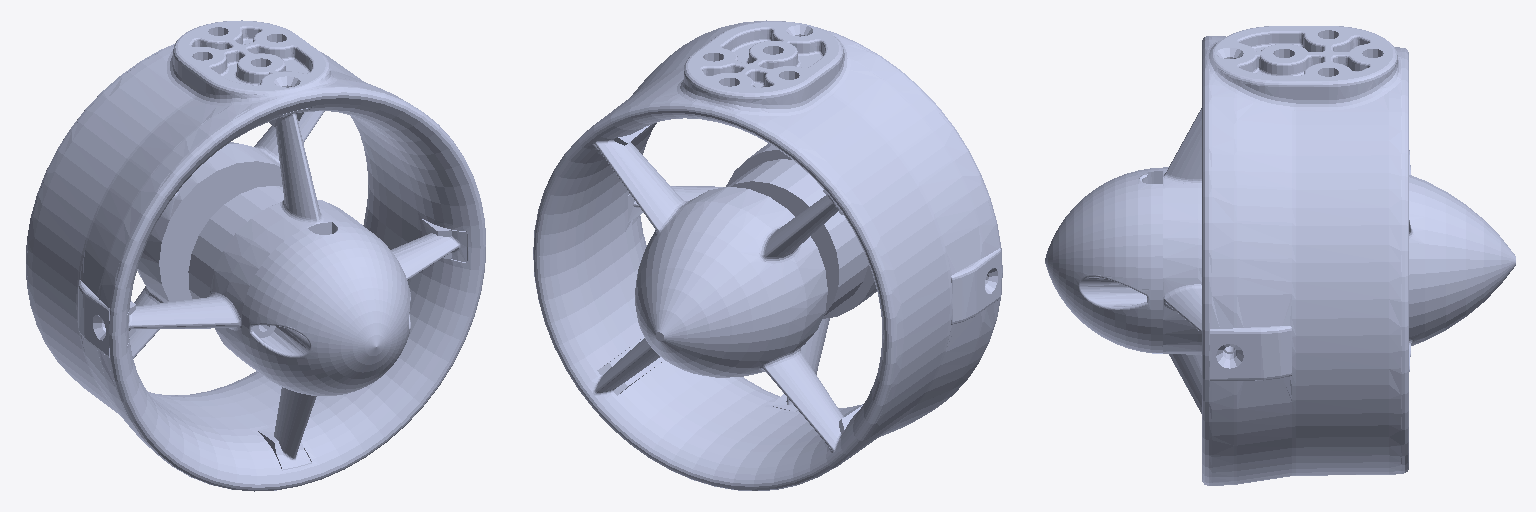
robot.urdf — T100-THRUSTER-SHELL:
<?xml version="1.0" encoding="utf-8"?>
<!-- This URDF was automatically created by SolidWorks to URDF Exporter! Originally created by [author] ([email redacted]) 
     Commit Version: 1.5.1-0-g916b5db  Build Version: 1.5.7152.31018
     For more information, please see http://wiki.ros.org/sw_urdf_exporter -->
<robot
  name="T100-THRUSTER-SHELL">
  <link
    name="T100-THRUSTER-SHELL">
    <inertial>
      <origin
        xyz="-1.0143E-05 -0.0040791 0.00053156"
        rpy="0 0 0" />
      <mass
        value="0.16979" />
      <inertia
        ixx="0.00015509"
        ixy="2.851E-08"
        ixz="-1.8979E-09"
        iyy="0.00017378"
        iyz="7.73359999999999E-07"
        izz="0.00015085" />
    </inertial>
    <visual>
      <origin
        xyz="-1.0143E-05 -0.0040791 0.00053156"
        rpy="1.5707963267949 0 0" />
      <geometry>
        <mesh
          filename="package://T100-THRUSTER-SHELL/meshes/T100-THRUSTER-SHELL.STL" />
      </geometry>
      <material
        name="">
        <color
          rgba="0.79216 0.81961 0.93333 1" />
        <texture
          filename="package://T100-THRUSTER-SHELL/textures/" />
      </material>
    </visual>
    <collision>
      <origin
        xyz="-1.0143E-05 -0.0040791 0.00053156"
        rpy="1.5707963267949 0 0" />
      <geometry>
        <mesh
          filename="package://T100-THRUSTER-SHELL/meshes/T100-THRUSTER-SHELL.STL" />
      </geometry>
    </collision>
  </link>
</robot>

--- Render facts (derived) ---
Views: 3 orthographic renders of the robot side by side, from view 1: azimuth 30°, elevation 25°; view 2: azimuth 150°, elevation 25°; view 3: azimuth 270°, elevation 25°.
Model T100-THRUSTER-SHELL with 1 links and 0 joints (none), rooted at T100-THRUSTER-SHELL, posed every joint at zero.
Visible links, largest first — view 1: T100-THRUSTER-SHELL; view 2: T100-THRUSTER-SHELL; view 3: T100-THRUSTER-SHELL.
Link boxes in pixels (x1,y1,x2,y2): T100-THRUSTER-SHELL: (26, 20, 485, 491); T100-THRUSTER-SHELL: (533, 20, 1002, 490); T100-THRUSTER-SHELL: (1045, 26, 1515, 485).
Bounding box of the posed robot: 96.58 × 101 × 97.29 m (x, y, z).
1 mesh visuals loaded from 1 distinct referenced files (1 binary STL).